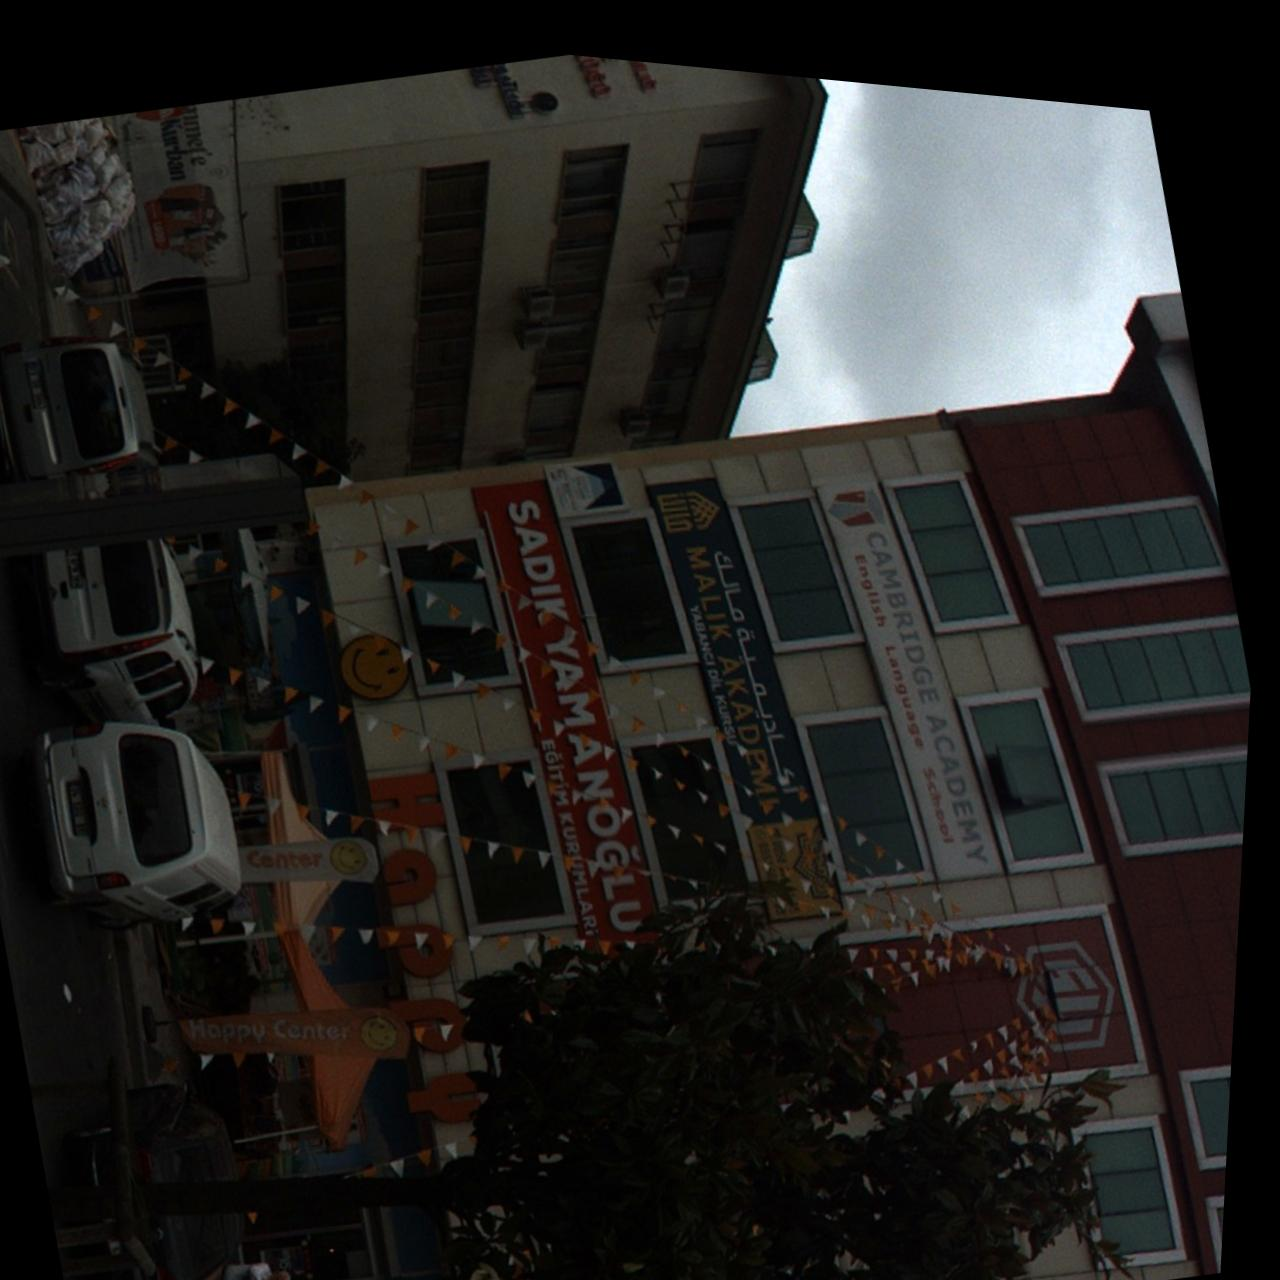SignStore: (475, 467, 674, 948), (649, 462, 852, 905), (345, 626, 499, 1150), (818, 461, 1016, 863)
